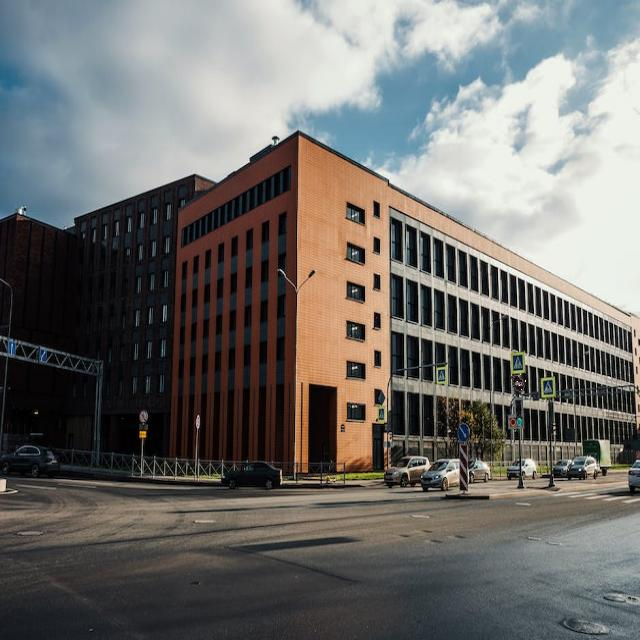no entry: (512, 375, 526, 394)
